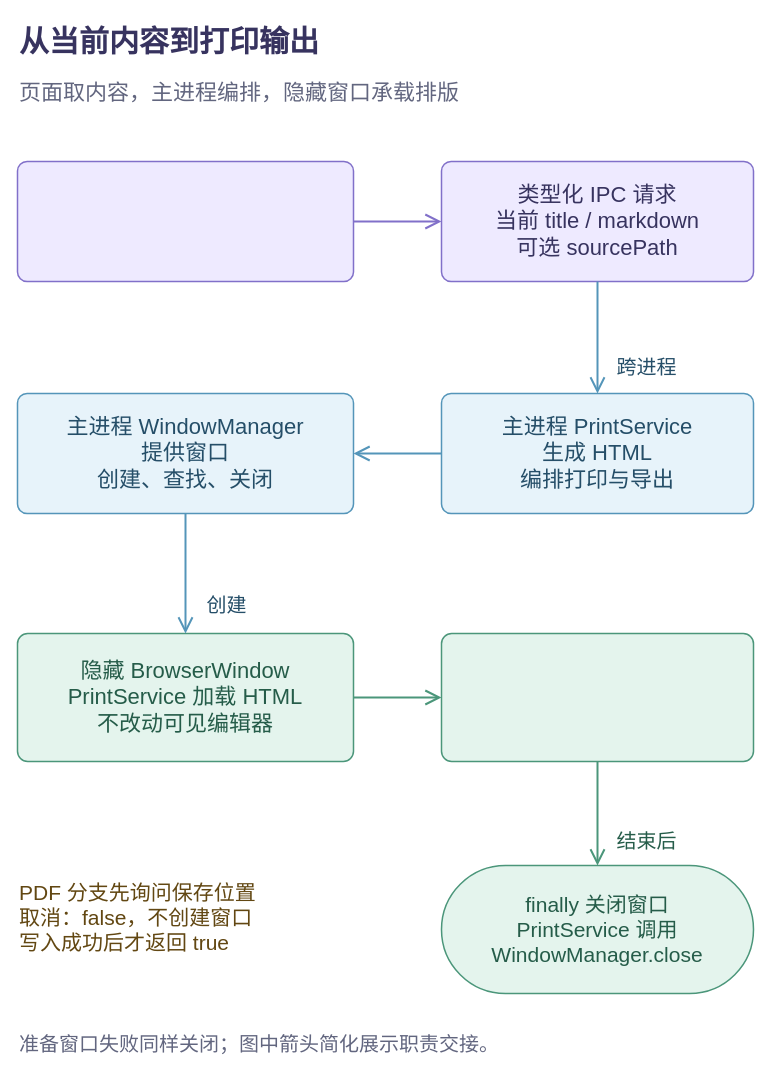
The diagram is 772 pixels wide and 1082 high, and some of its shapes have lost their labels. Here are the shapes that lost their labels. From the top down, the centre of each, then its label:
At [185,221]: "笔记页面与编辑器 读取当前值 空内容提示并结束".
At [597,697]: "执行打印 / 导出 打印等待回调 PDF 等待生成与写入".
